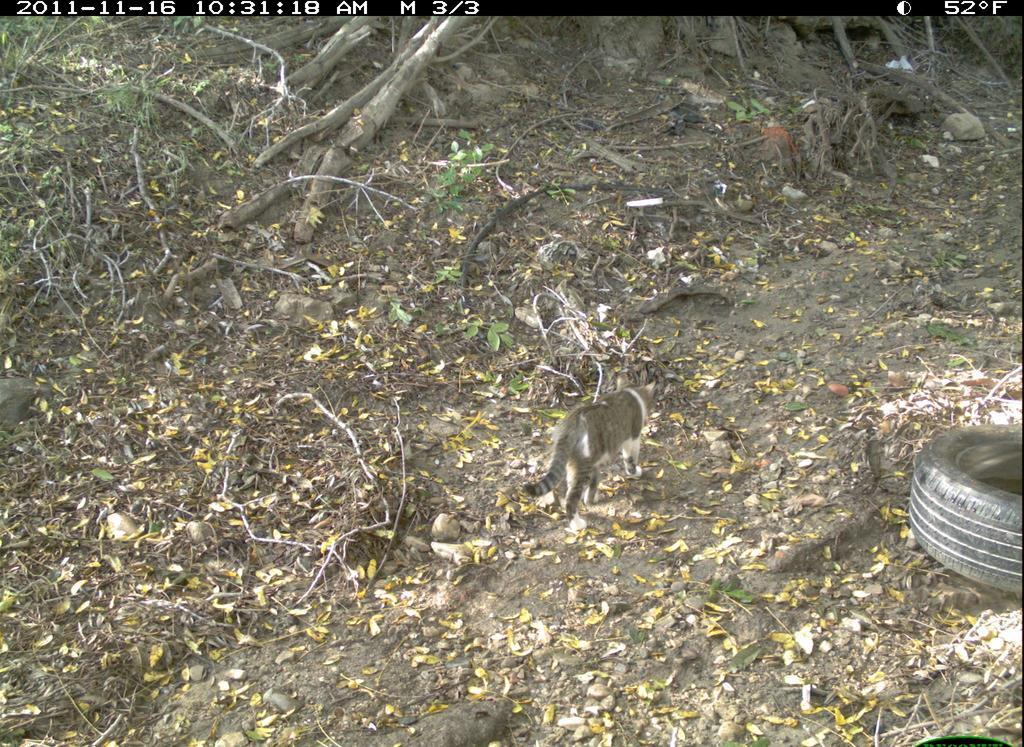cat: (523, 365, 673, 529)
